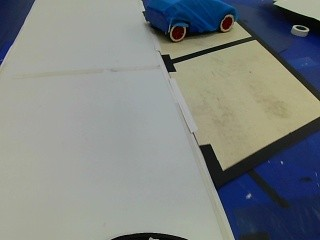car: (138, 0, 242, 42)
